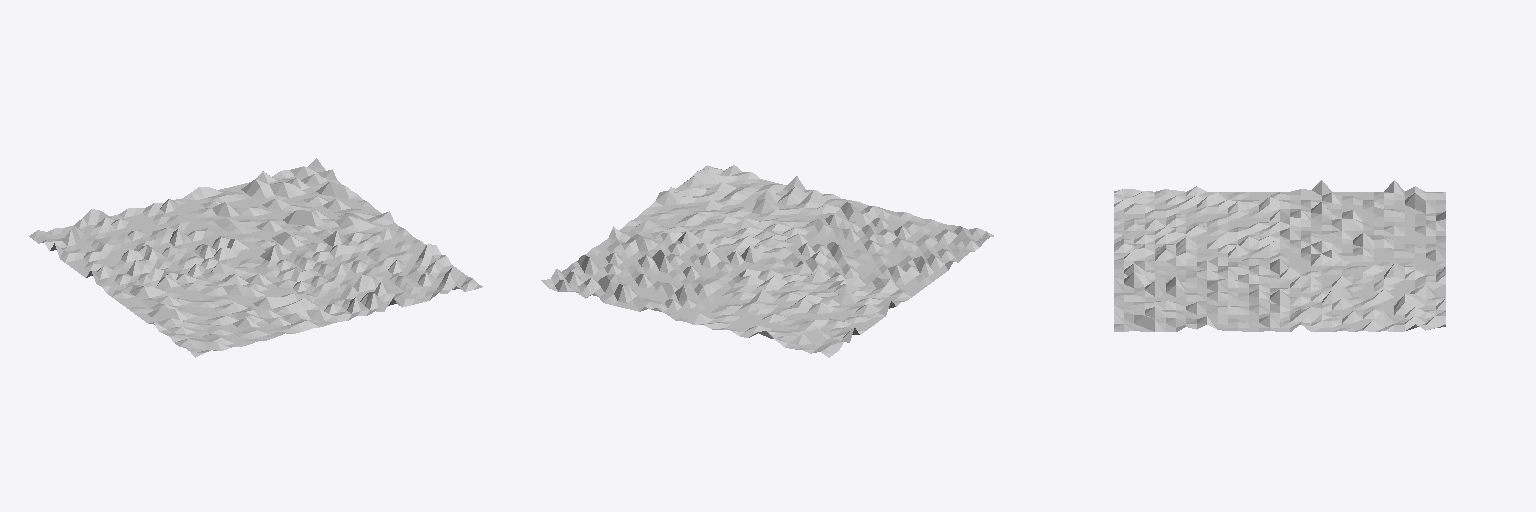
File: polyWave.obj
The picture shows the model from 3 angles: view 1: azimuth 30°, elevation 25°; view 2: azimuth 150°, elevation 25°; view 3: azimuth 270°, elevation 25°; orthographic projection.
Parts seen in each view (by area): view 1: Plane_Plane.001; view 2: Plane_Plane.001; view 3: Plane_Plane.001.
Boxes of the visible parts, box(x1,y1,x2,y2) form: Plane_Plane.001: box(29, 158, 482, 357); Plane_Plane.001: box(541, 165, 993, 357); Plane_Plane.001: box(1114, 180, 1445, 331).
Bounding box in the file's own units: 10 × 0.4 × 10.